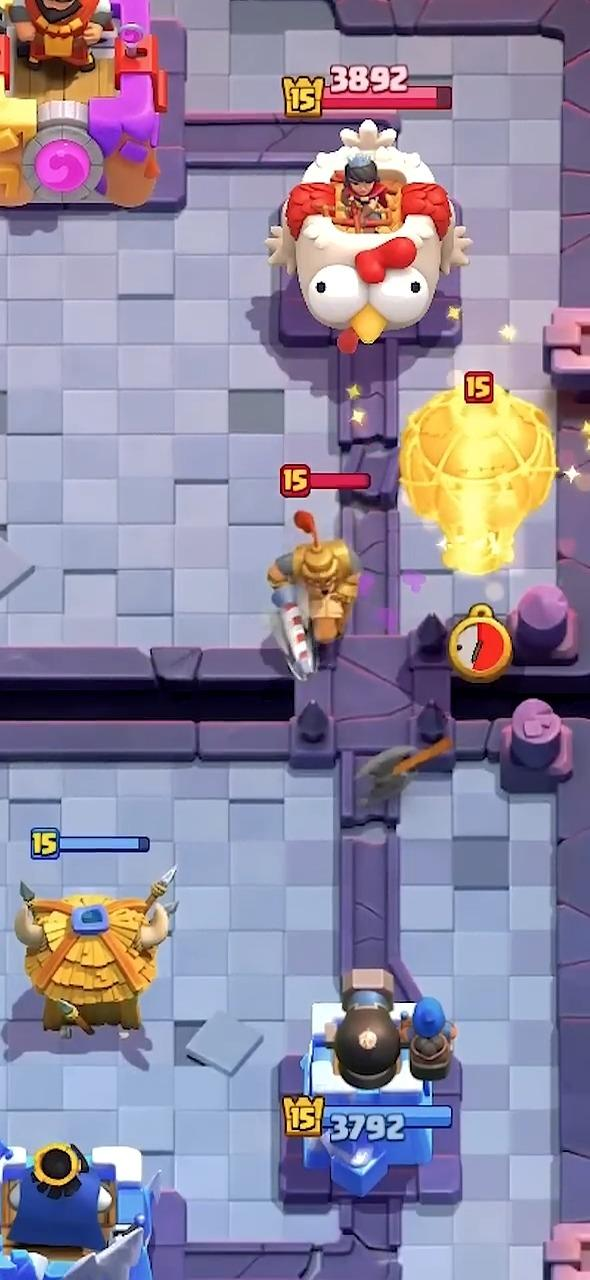baloon: (400, 385, 556, 576)
goblin hut: (14, 868, 174, 1037)
prince: (267, 510, 361, 677)
